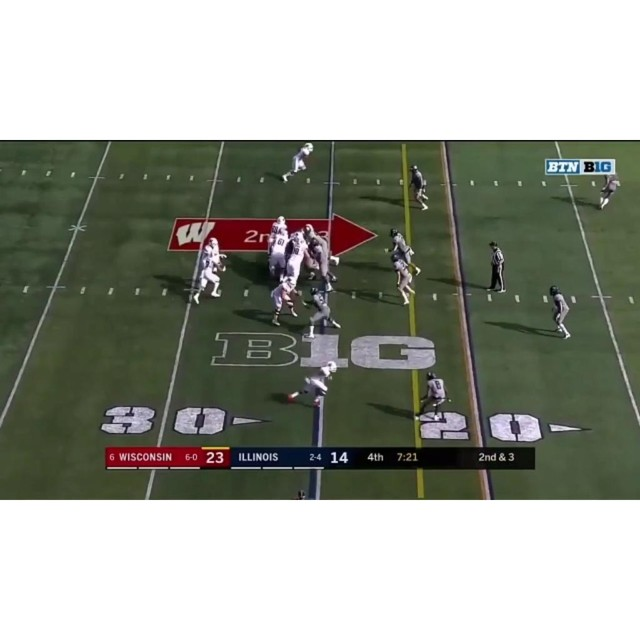american-football-player: (288, 361, 336, 403), (302, 287, 342, 337), (304, 232, 337, 290), (191, 252, 227, 305), (415, 371, 450, 423), (388, 228, 420, 276), (269, 276, 299, 326), (390, 254, 417, 306), (547, 285, 572, 339), (281, 143, 314, 183), (268, 231, 290, 280), (408, 164, 429, 211), (597, 173, 621, 209)
referee: (485, 239, 507, 293)
